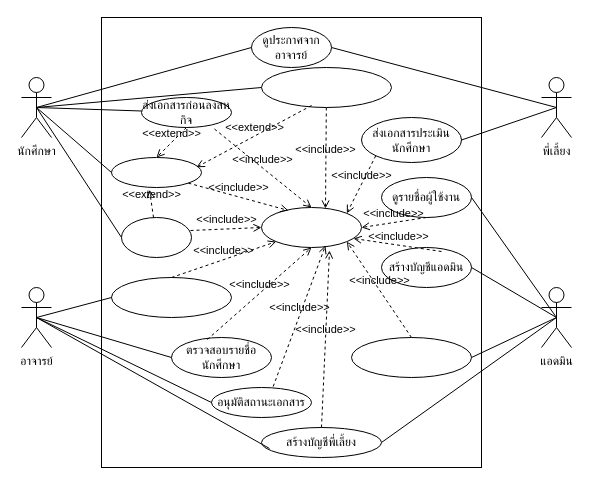
The diagram is 590 pixels wide and 485 high, and some of its shapes have lost their labels. Here are the shapes that lost their labels. From the top down, the centre of each, then its label:
At pixel 326 87: "บันทึกชั่วโมงการอบรม".
At pixel 156 172: "ตรวจสอบข้อมูล".
At pixel 156 237: "ส่งเอกสารหลังจบสกิจ".
At pixel 311 227: "เข้าสู่ระบบ".
At pixel 171 297: "ประกาศข้อมูลข่าวสาร".
At pixel 411 357: "สร้างบัญชีอาจารย์".
